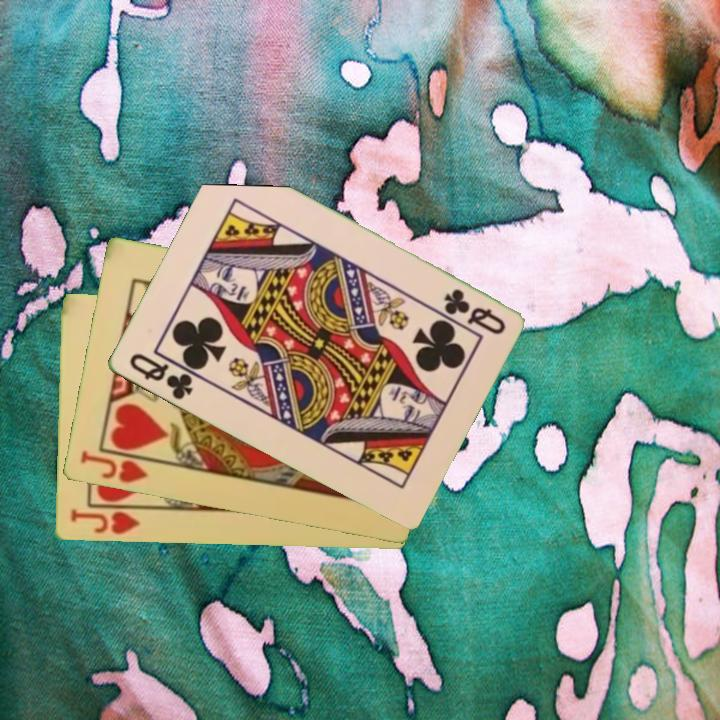Jh: (76, 447, 160, 487), (66, 503, 149, 538)
Qc: (125, 350, 196, 403), (439, 285, 508, 338)
